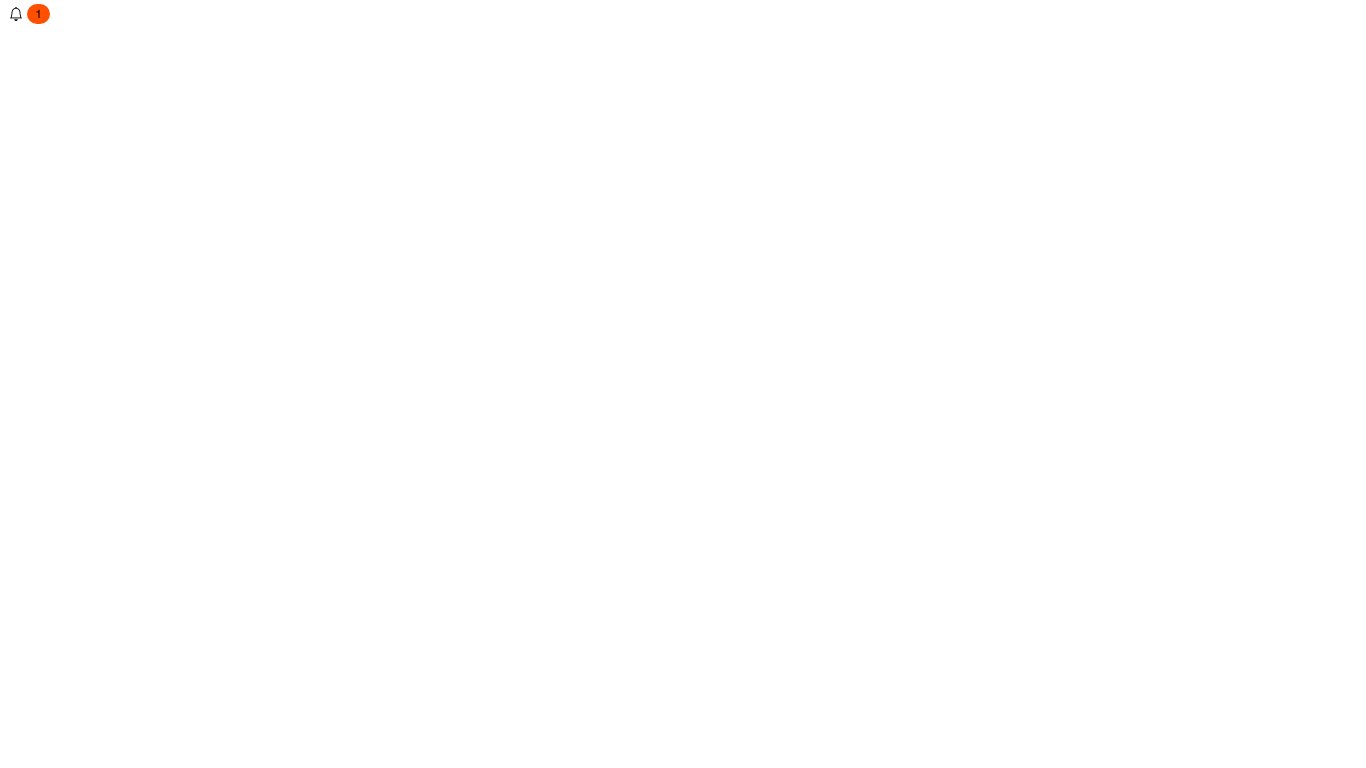
Test: UpdatesBell › lists the updates, marks the new ones, and marks them all read
Click the button named "Updates, 1 new" at (29, 16), box [0,0,59,31]
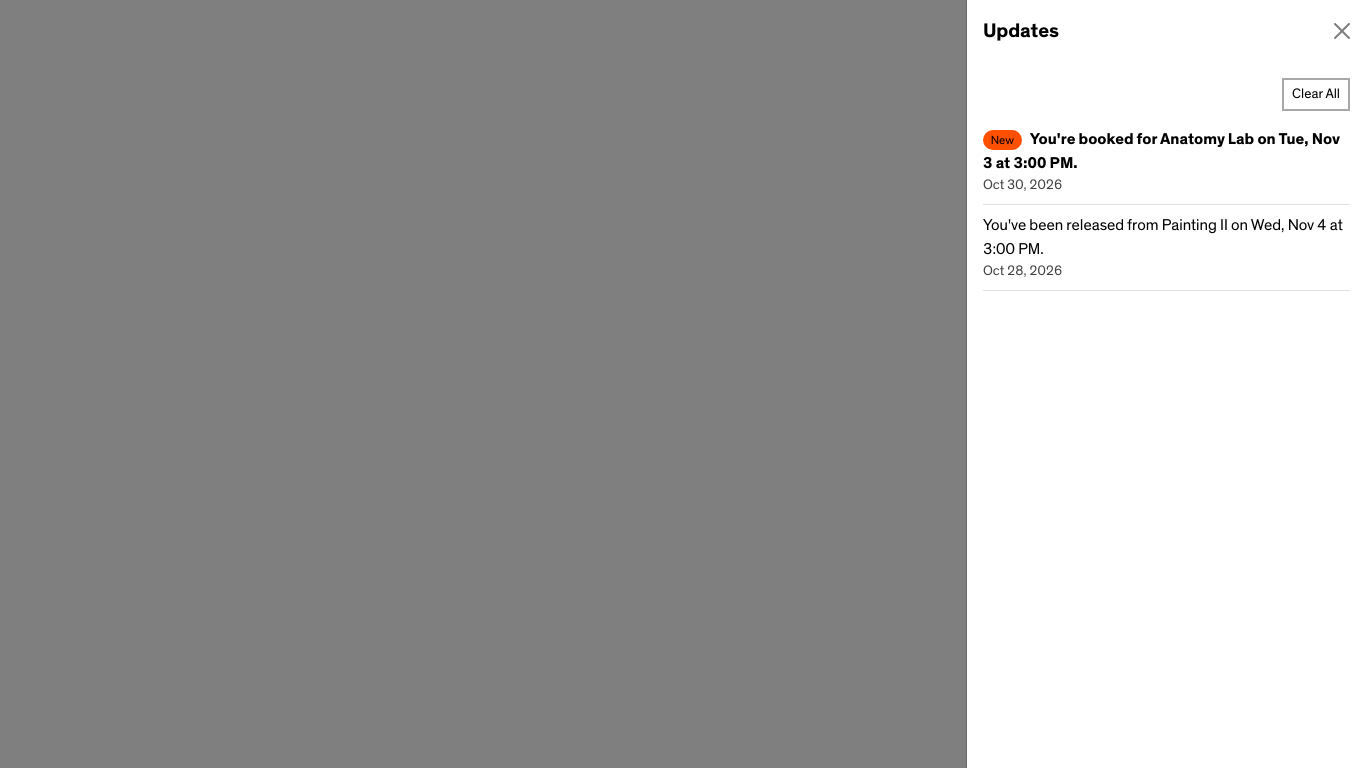
Now the number of list items is 2, box [983,119,1350,205]; [983,205,1350,291]
Now the list item that starts with "New" shows "You're booked for Anatomy Lab", box [983,127,1350,175]
Now the text "New" is shown, box [983,130,1022,150]
